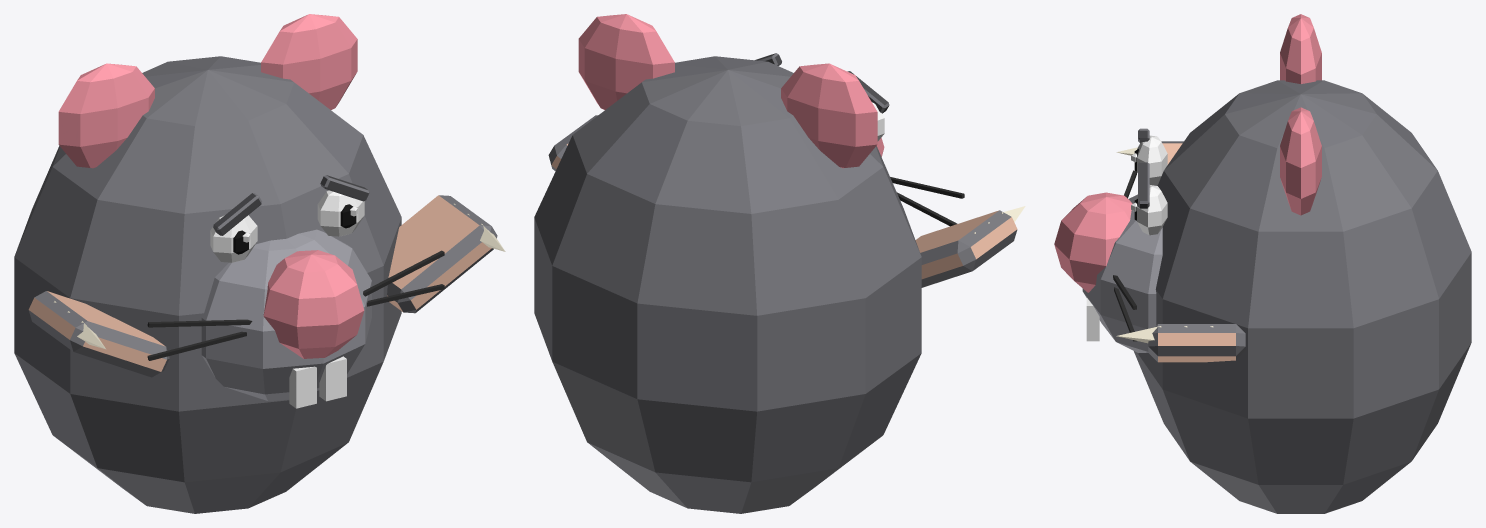
File: gullyratte.glb
3 renders of one model, left to right at view 1: azimuth 30°, elevation 25°; view 2: azimuth 150°, elevation 25°; view 3: azimuth 270°, elevation 25°, orthographic. The views are drawn at different scales.
Parts seen in each view (by area): view 1: body-m; view 2: body-m; view 3: body-m.
Part boxes in pixels (x1,y1,x2,y2): body-m: [14, 14, 505, 513]; body-m: [534, 14, 1025, 513]; body-m: [1054, 14, 1471, 513].
Size of the model in its own units: 1.44 by 1.48 by 1.29.
